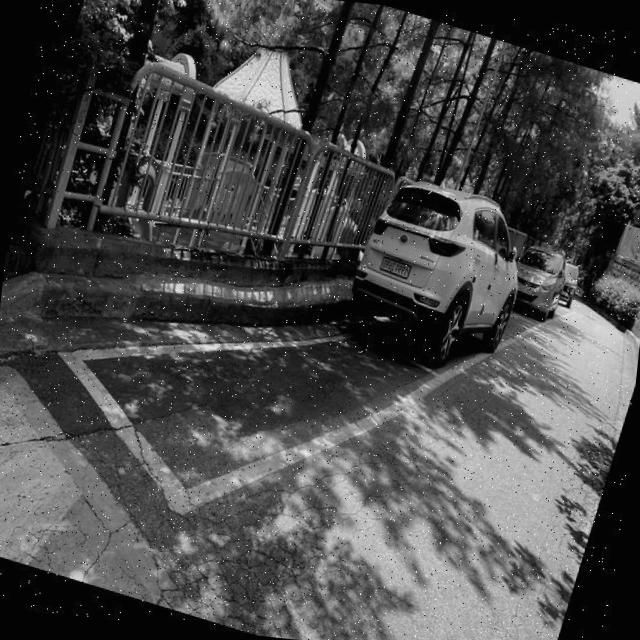car: (338, 162, 540, 366)
free: (67, 324, 446, 494)
